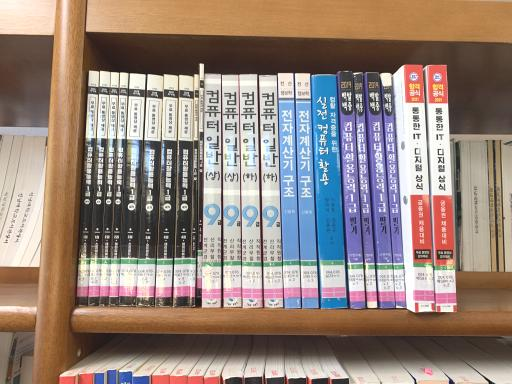book-spine: (313, 75, 348, 308), (404, 65, 435, 313), (428, 65, 457, 312), (367, 72, 395, 308), (119, 73, 146, 306), (136, 74, 163, 306), (340, 71, 365, 308), (353, 72, 378, 308), (382, 72, 406, 308), (259, 75, 283, 308), (278, 73, 301, 308), (295, 73, 318, 308), (88, 71, 111, 305), (155, 74, 178, 307), (77, 71, 99, 306), (240, 74, 262, 308), (173, 75, 194, 307), (100, 72, 120, 306), (109, 72, 128, 306), (222, 75, 241, 307), (203, 74, 221, 308), (190, 75, 199, 307), (196, 63, 204, 298)
